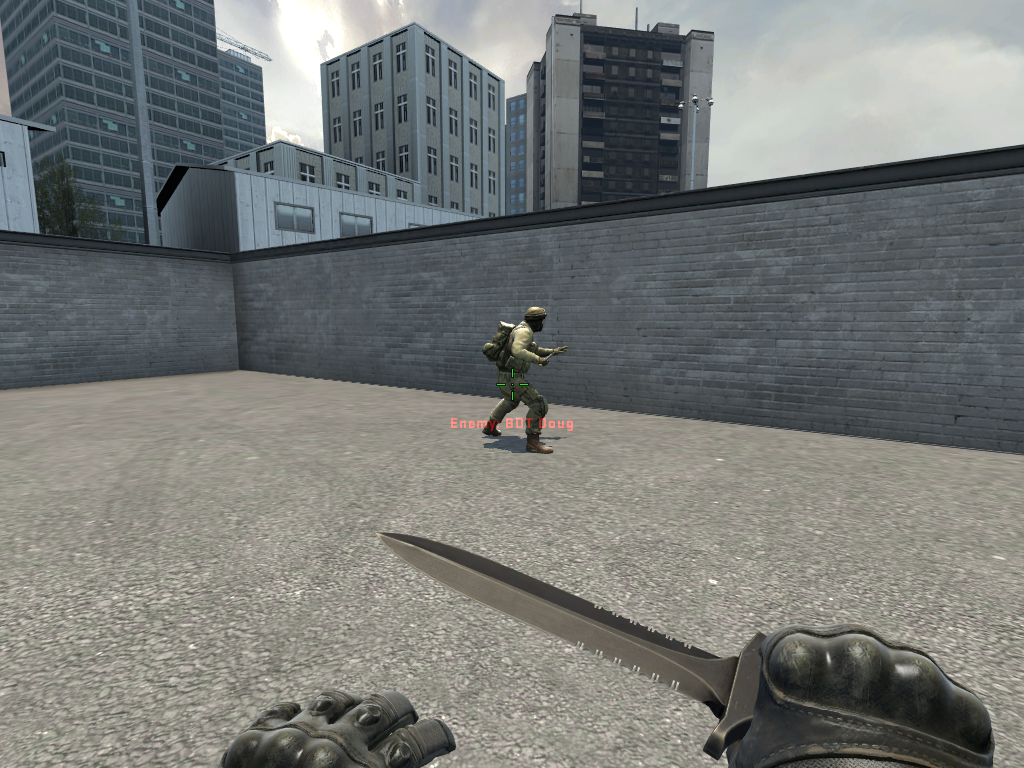ct head: (520, 303, 550, 336)
